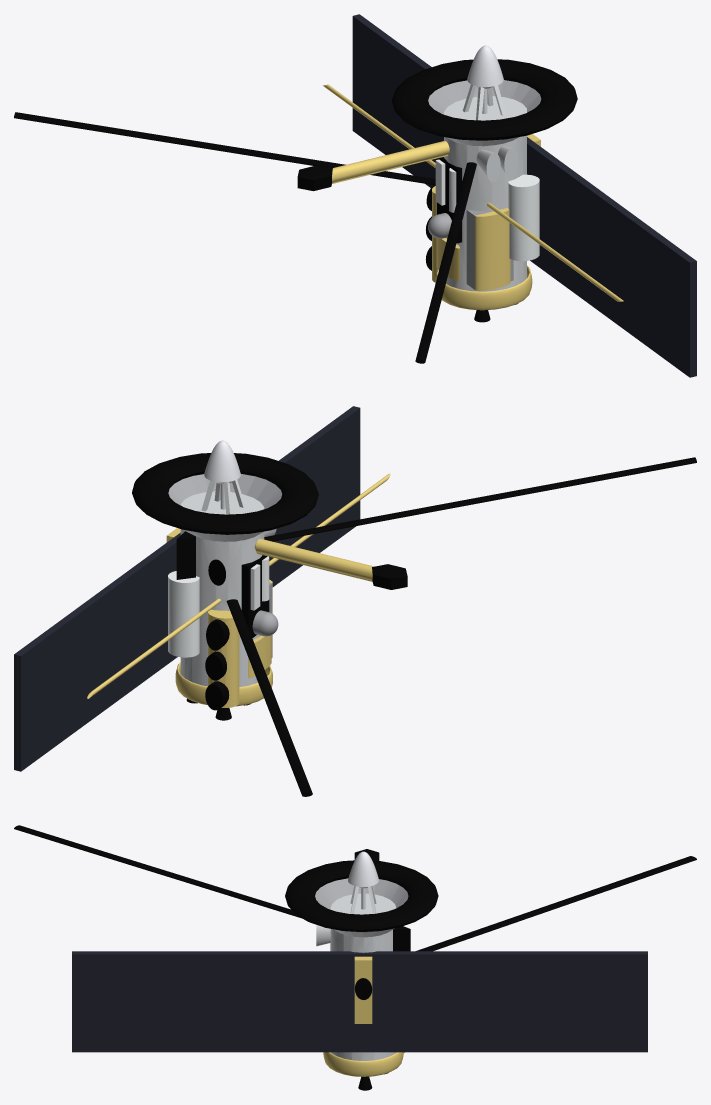
File: satellite.glb
3 renders of one model, top to bottom at view 1: azimuth 30°, elevation 25°; view 2: azimuth 150°, elevation 25°; view 3: azimuth 270°, elevation 25°, orthographic. The views are drawn at different scales.
Visible parts, largest first — view 1: Object_7, Object_3, Object_8, Object_4, Object_2; view 2: Object_7, Object_8, Object_3, Object_4, Object_2; view 3: Object_7, Object_8, Object_3, Object_4.
Part boxes in pixels (<box>): Object_7: <box>352,14,696,377</box>; Object_3: <box>323,84,623,310</box>; Object_8: <box>14,59,577,363</box>; Object_4: <box>428,45,541,289</box>; Object_2: <box>462,84,539,261</box>; Object_7: <box>14,406,360,771</box>; Object_8: <box>132,453,696,796</box>; Object_3: <box>87,473,390,707</box>; Object_4: <box>168,440,282,657</box>; Object_2: <box>168,479,245,657</box>; Object_7: <box>72,951,647,1052</box>; Object_8: <box>14,825,696,1090</box>; Object_3: <box>316,893,404,1076</box>; Object_4: <box>315,851,408,937</box>.
Bounding box in the file's own units: 102 × 71 × 196.
5 materials, 4 textured.
